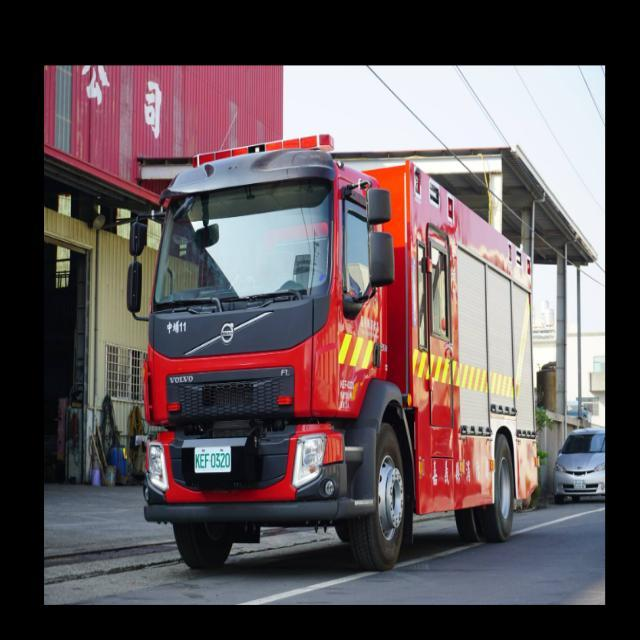ambulance: (96, 95, 554, 570)
